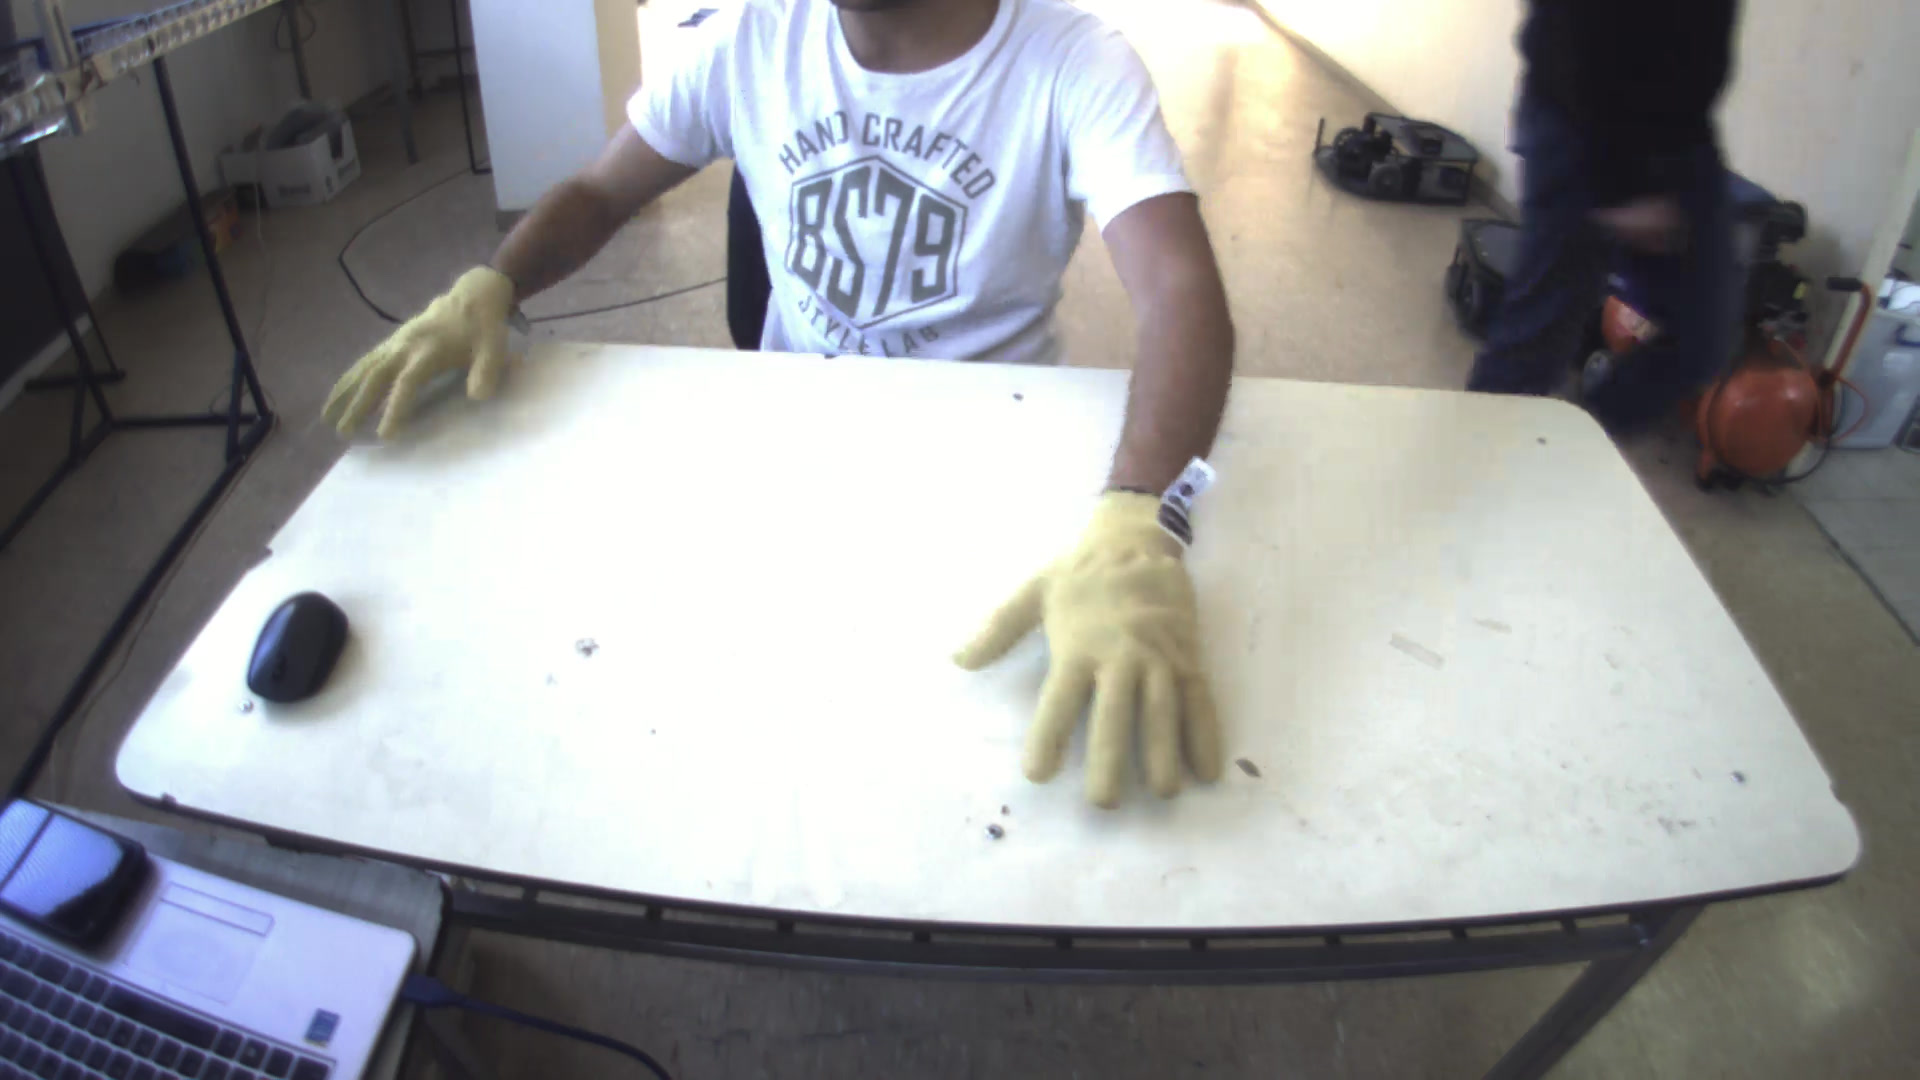hand: (940, 476, 1246, 811), (309, 253, 530, 442)
